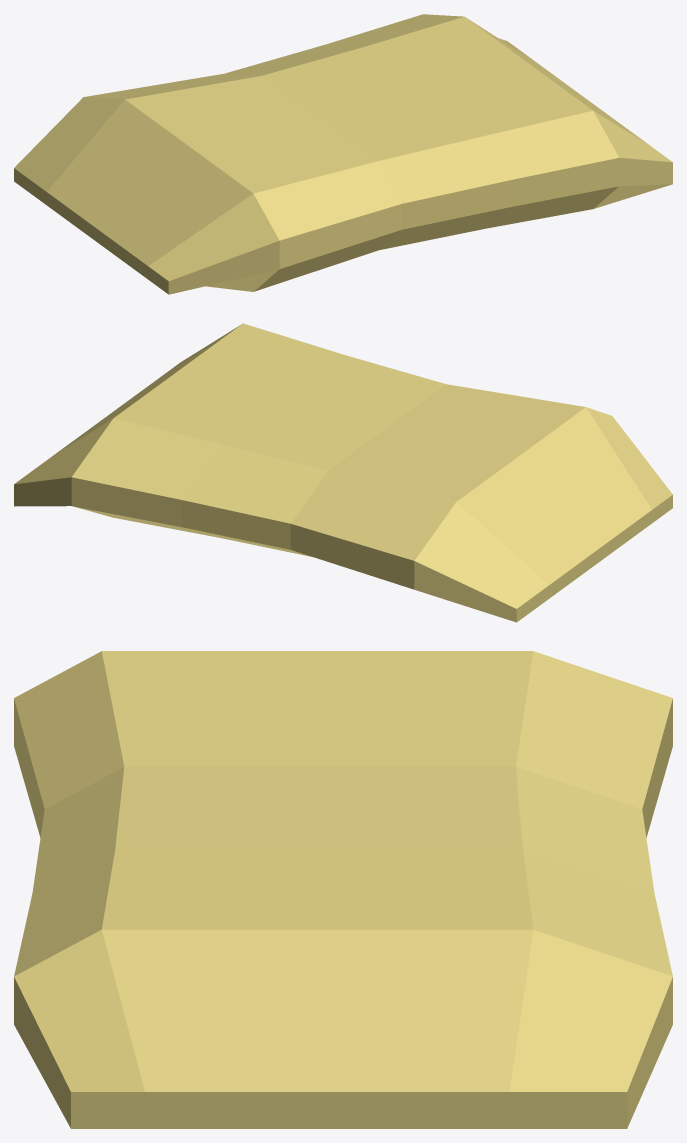
Rendered from sack.fbx.
3 views of the same model, one above another, from view 1: azimuth 30°, elevation 25°; view 2: azimuth 150°, elevation 25°; view 3: azimuth 270°, elevation 25° (orthographic). The views are drawn at different scales.
Parts seen in each view (by area): view 1: Plane; view 2: Plane; view 3: Plane.
Part boxes in pixels (x1,y1,x2,y2): Plane: (14, 14, 672, 294); Plane: (14, 323, 672, 622); Plane: (14, 651, 672, 1128).
Size of the model in its own units: 0.7888 by 0.1497 by 0.5405.
